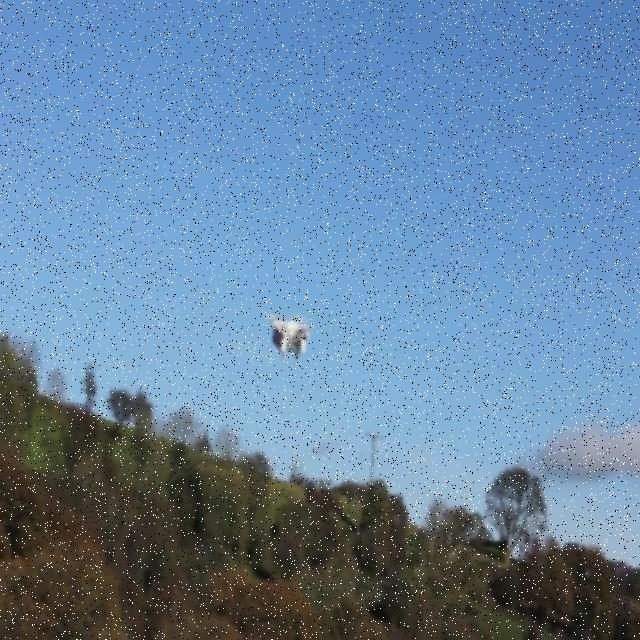UAV: (266, 313, 312, 363)
